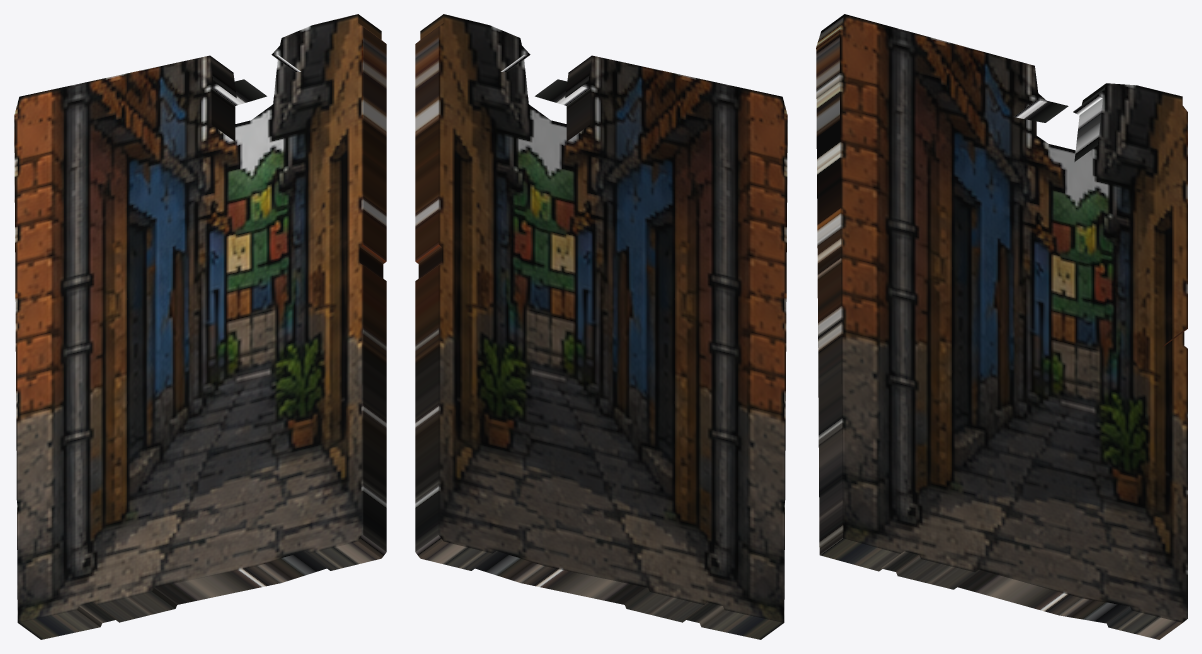
Rendered from props_02.glb.
3 renders of one model, left to right at view 1: azimuth 30°, elevation 25°; view 2: azimuth 150°, elevation 25°; view 3: azimuth 330°, elevation 25°, orthographic.
Parts seen in each view (by area): view 1: world; view 2: world; view 3: world.
Part boxes in pixels (box(x1,y1,x2,y2)): world: box(14, 14, 386, 639); world: box(415, 14, 787, 639); world: box(816, 14, 1187, 639).
Size of the model in its own units: 2.05 by 2.96 by 0.2376.
Materials: 1 (1 with a texture image).
